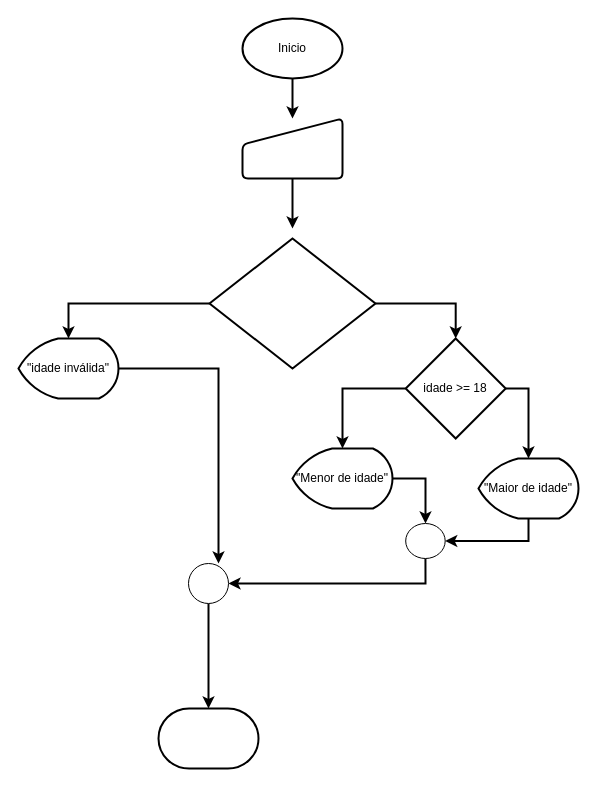
The diagram is 596 pixels wide and 786 high, and some of its shapes have lost their labels. Here are the shapes that lost their labels. From the top down, the box of each, then its label:
(241, 117, 343, 179): Idade
(208, 237, 376, 369): idade >=1 e idade<= 110
(157, 707, 259, 769): Fim
